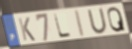7: (34, 12, 50, 43)
I: (74, 9, 86, 39)
K: (17, 17, 37, 43)
L: (53, 13, 73, 39)
Q: (107, 6, 127, 34)
U: (86, 7, 109, 35)
